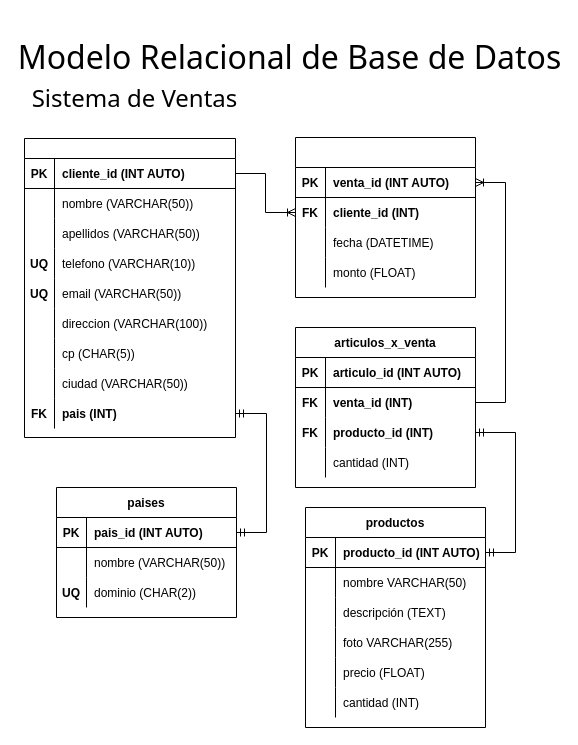
The diagram is 578 pixels wide and 745 high, and some of its shapes have lost their labels. The shapes that lost their labels are listed below. From the top down, each one's box as (x1, y1, x2, y2) in pixels, then its label:
(294, 136, 476, 298): ventas
(24, 138, 236, 438): clientes
